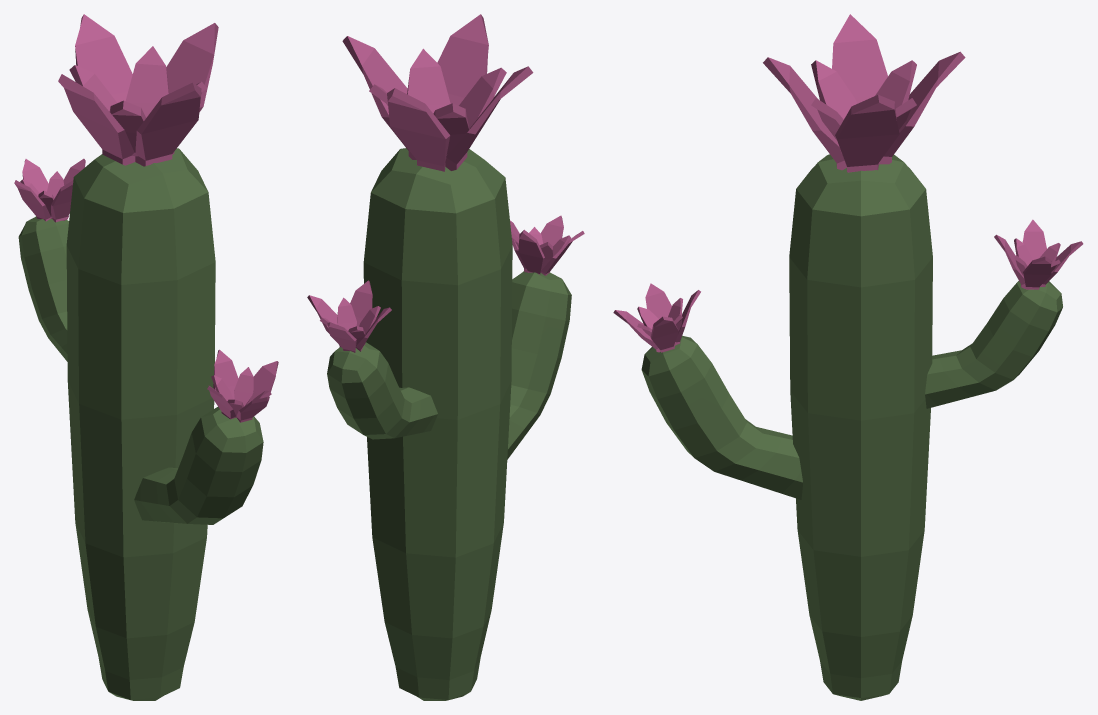
The model's file is cactusflowers-3.glb.
3 views of the same model, side by side, from view 1: azimuth 30°, elevation 25°; view 2: azimuth 150°, elevation 25°; view 3: azimuth 270°, elevation 25° (orthographic).
Parts seen in each view (by area): view 1: CactusFlowers_3; view 2: CactusFlowers_3; view 3: CactusFlowers_3.
Boxes of the visible parts, x1,y1,x2,y2 form: CactusFlowers_3: [14, 14, 278, 700]; CactusFlowers_3: [307, 14, 584, 700]; CactusFlowers_3: [613, 14, 1083, 700].
Size of the model in its own units: 0.4774 by 1.67 by 1.12.
